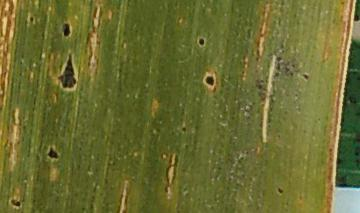tarspot: (57, 51, 81, 93), (61, 19, 73, 40), (46, 146, 61, 160), (204, 71, 216, 88), (8, 196, 24, 208), (300, 71, 310, 81), (196, 37, 206, 46), (275, 186, 285, 194), (27, 15, 36, 22), (180, 126, 189, 131)
